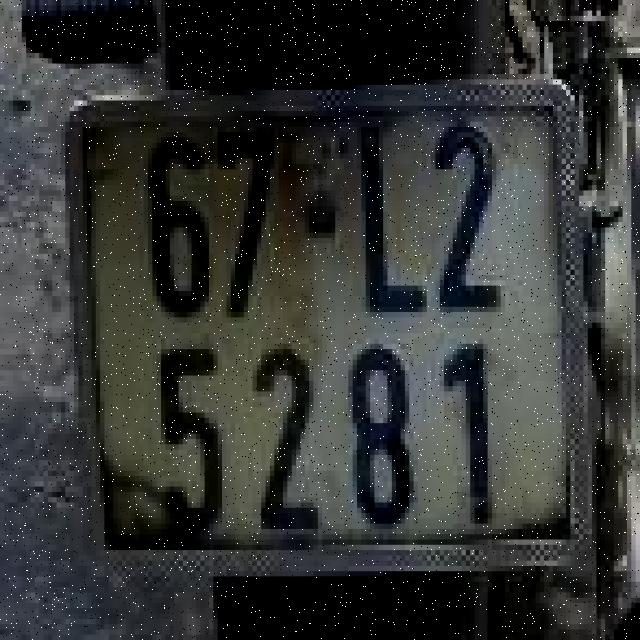1: (440, 331, 505, 542)
2: (246, 333, 320, 529), (435, 116, 505, 318)
5: (137, 328, 233, 539)
6: (135, 116, 222, 344)
7: (224, 116, 290, 328)
8: (342, 333, 429, 540)
L: (340, 130, 431, 310)
